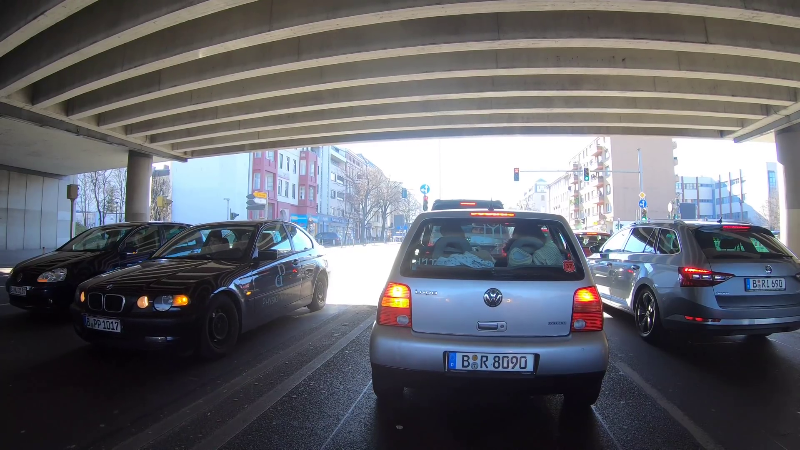Plate: (446, 350, 534, 374), (80, 316, 122, 333), (743, 277, 787, 292)
